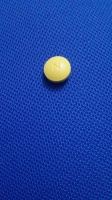Nurofen: (43, 55, 74, 85)
